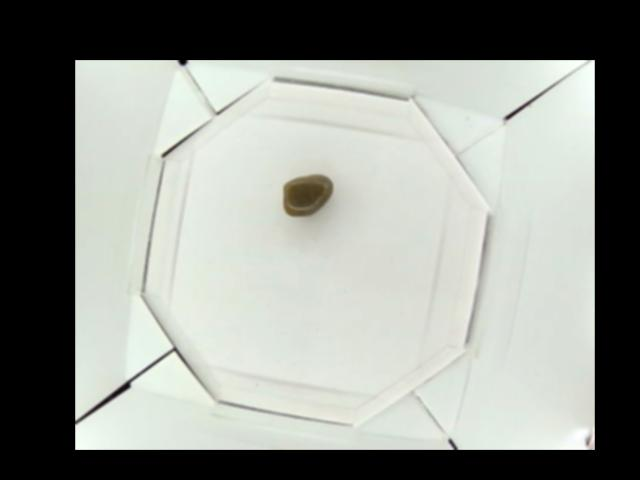Pebble: (283, 171, 333, 215)
